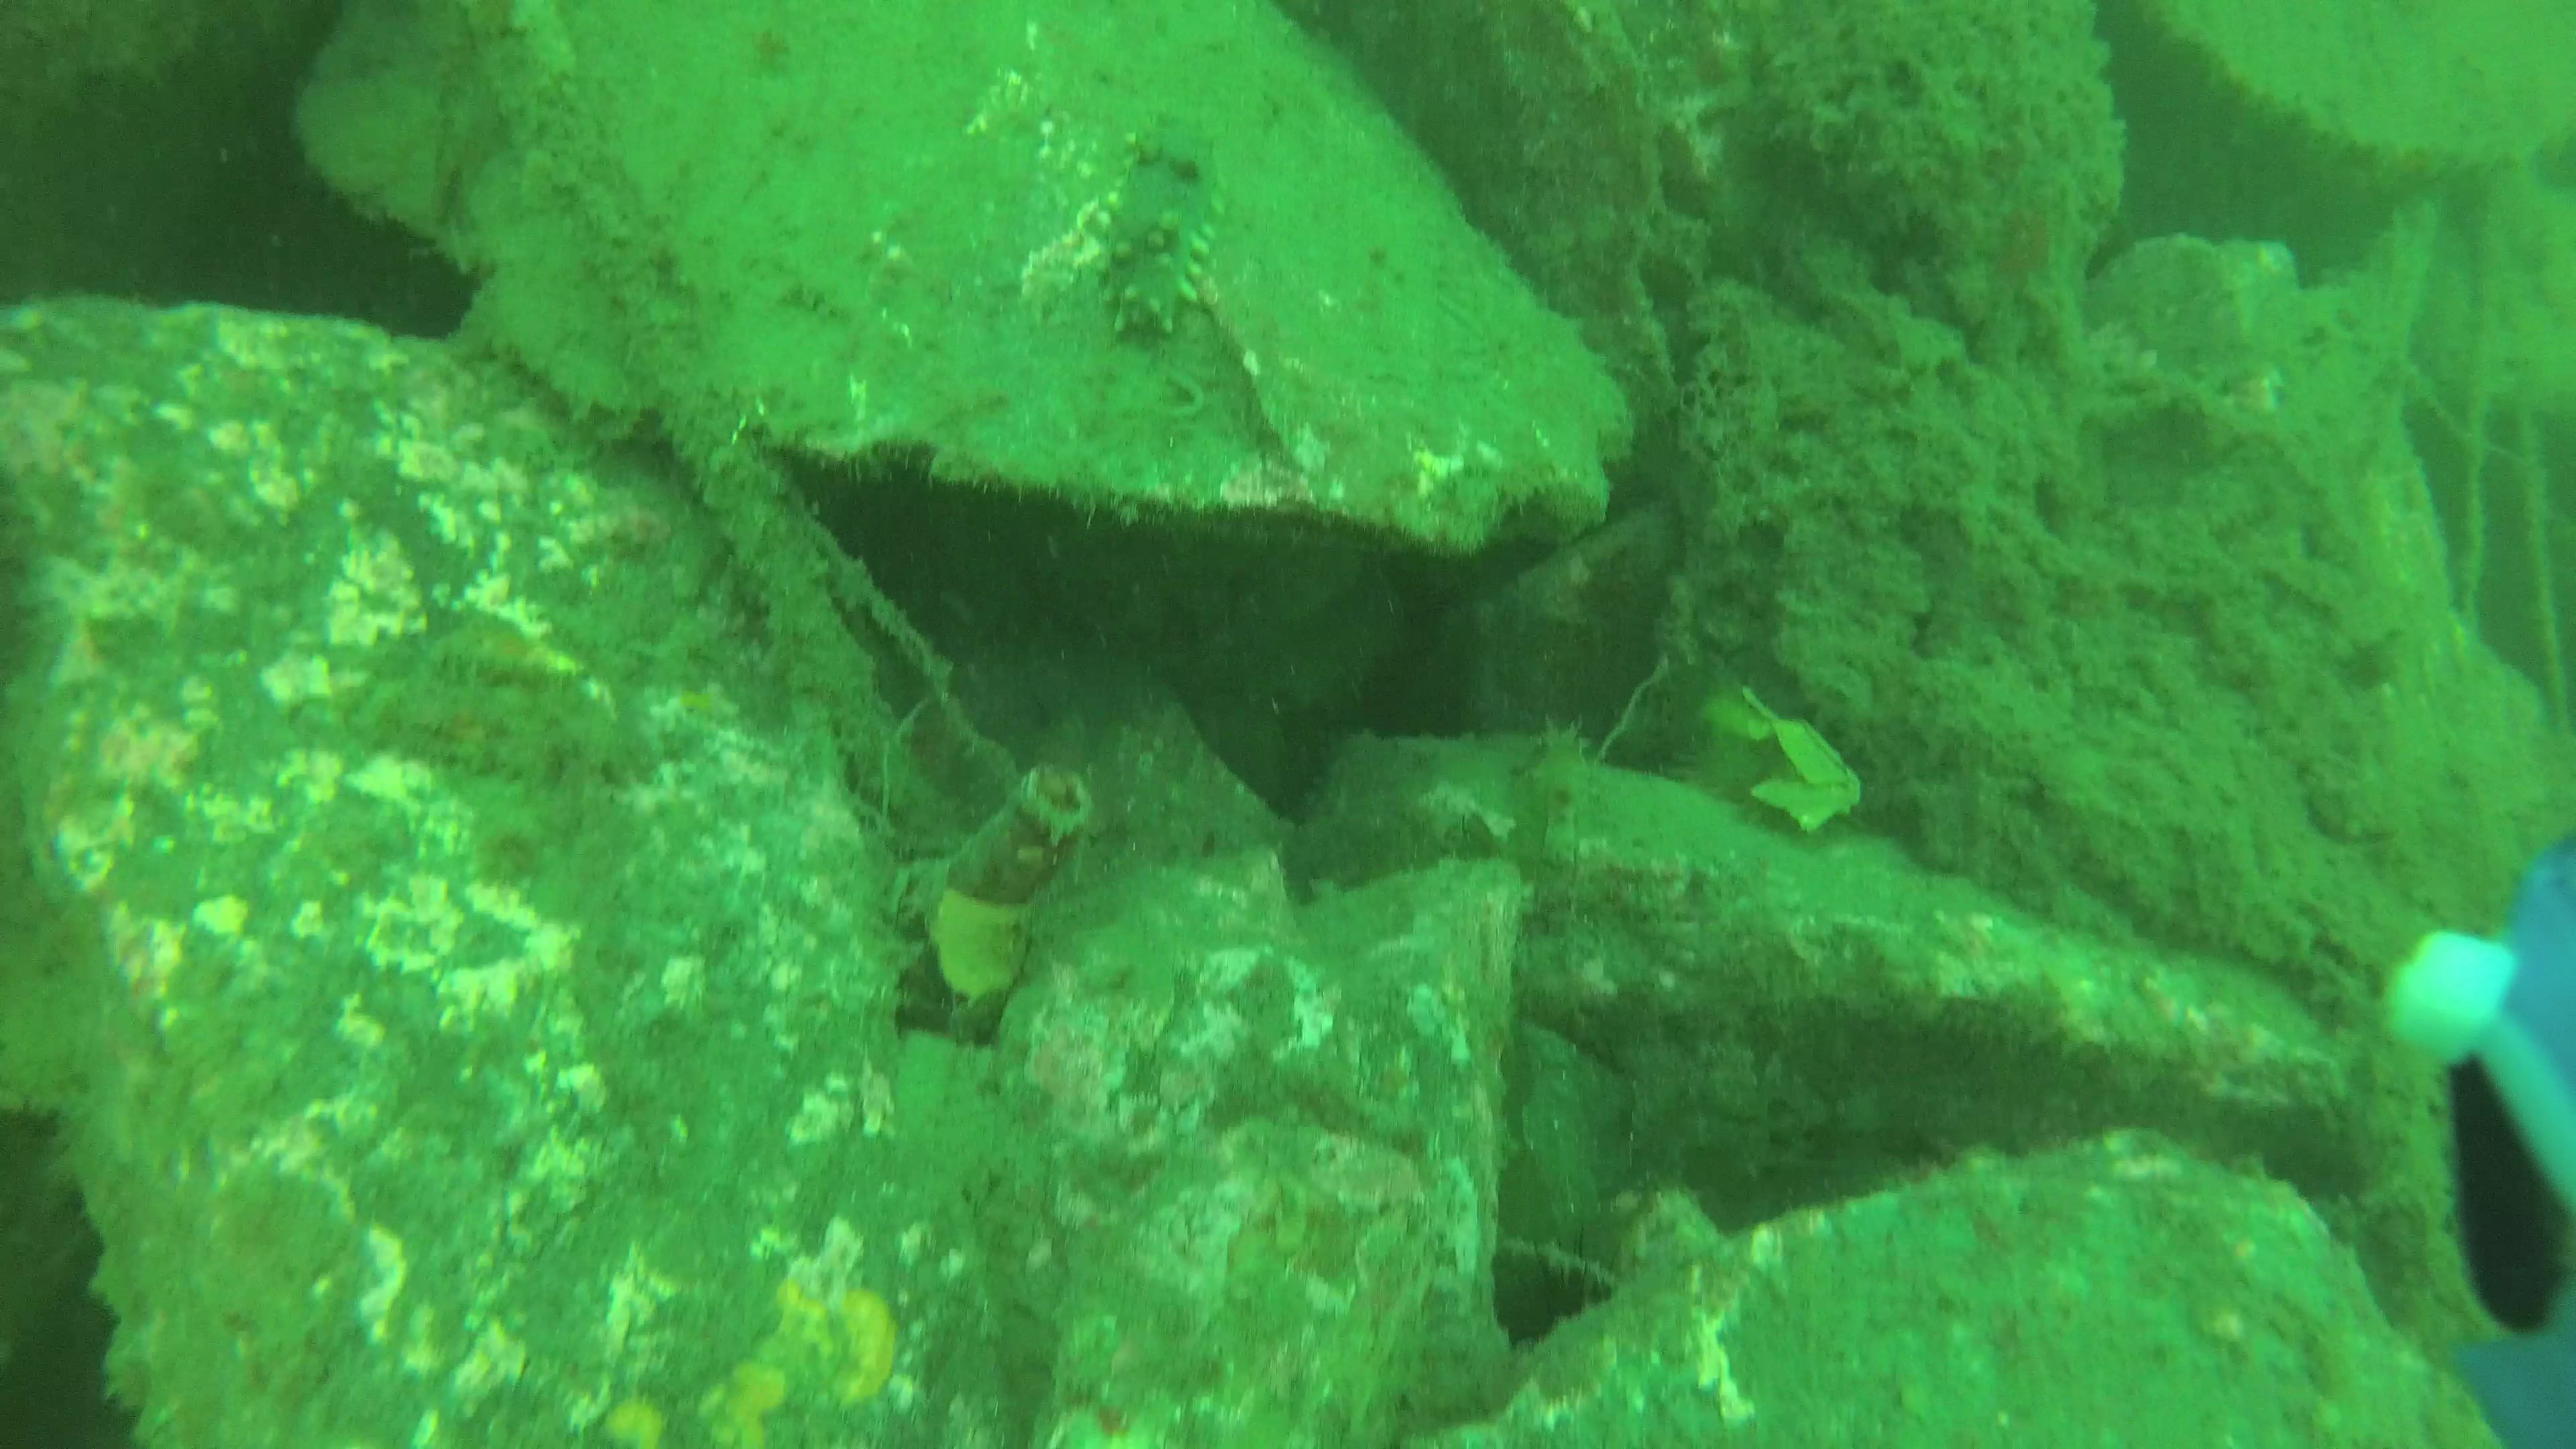holothurian: (1095, 117, 1223, 349)
